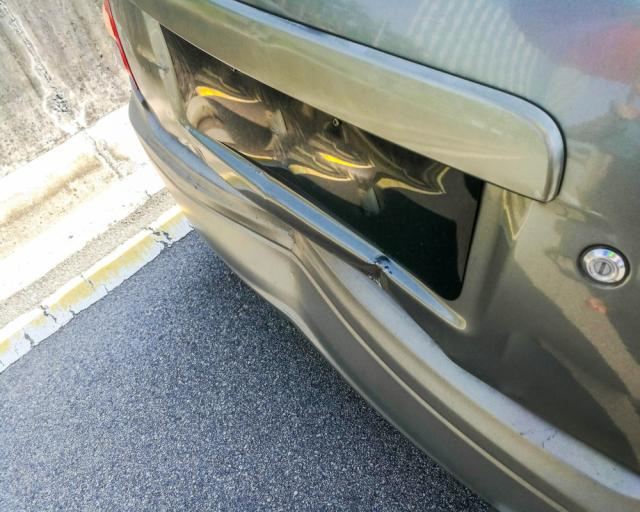dent: (220, 208, 309, 309)
